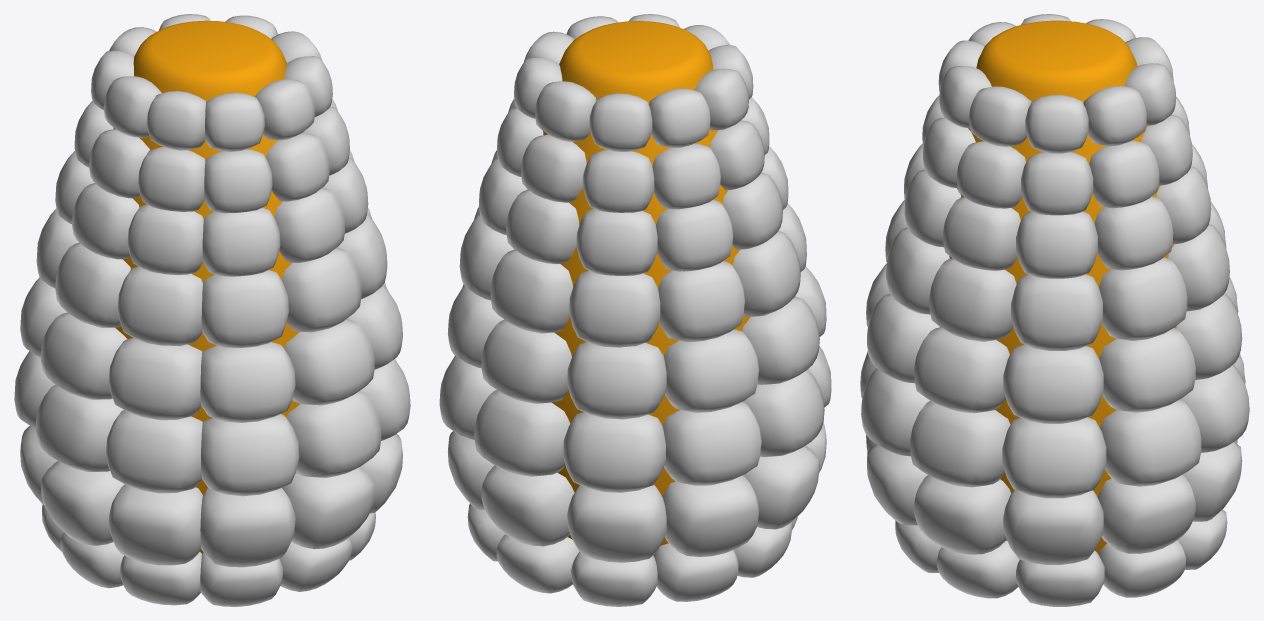
The model's file is Corn.fbx.
3 renders of one model, left to right at view 1: azimuth 30°, elevation 25°; view 2: azimuth 150°, elevation 25°; view 3: azimuth 270°, elevation 25°, orthographic.
Parts seen in each view (by area): view 1: Corn; view 2: Corn; view 3: Corn.
Part boxes in pixels (x1,y1,x2,y2): Corn: [14, 14, 410, 606]; Corn: [439, 14, 831, 606]; Corn: [860, 14, 1249, 606].
Bounding box in the file's own units: 32.19 × 44.96 × 31.65.
